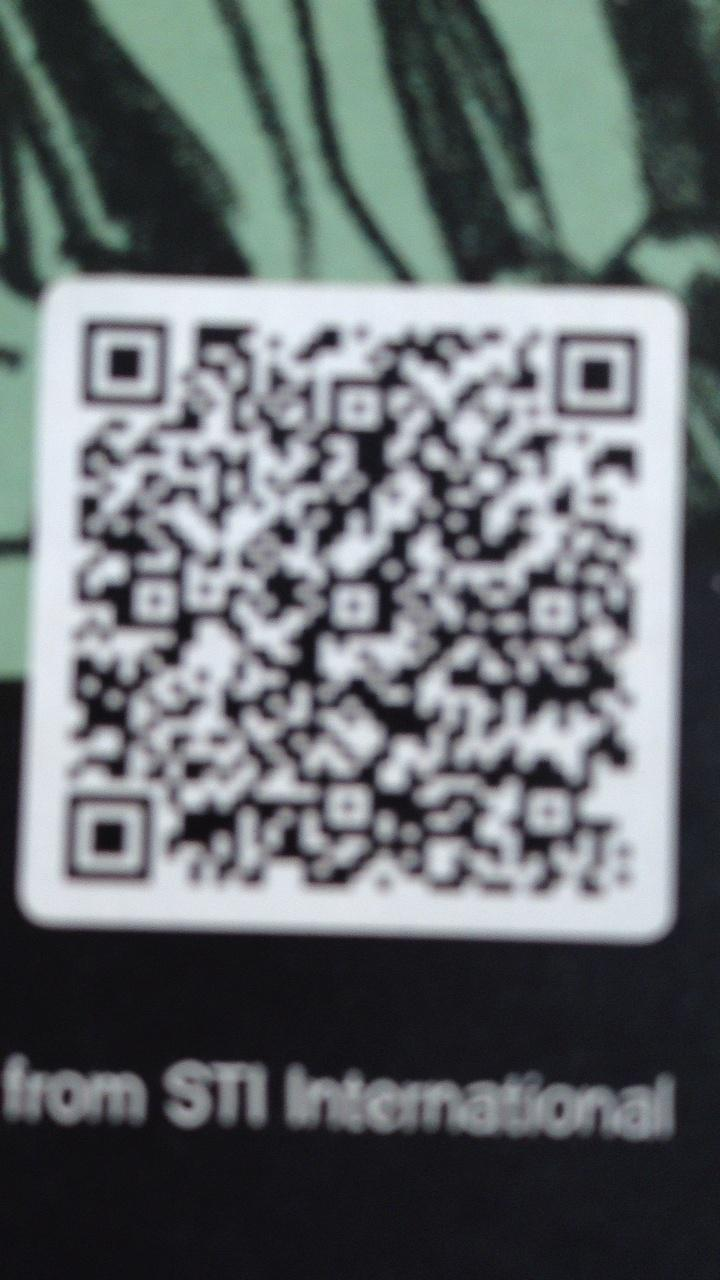Finder pattern: (53, 783, 162, 898), (542, 324, 653, 424), (72, 314, 178, 409)
